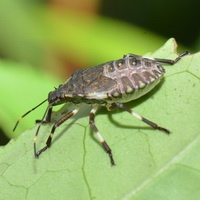insect: (22, 51, 188, 164), (36, 101, 76, 149)
